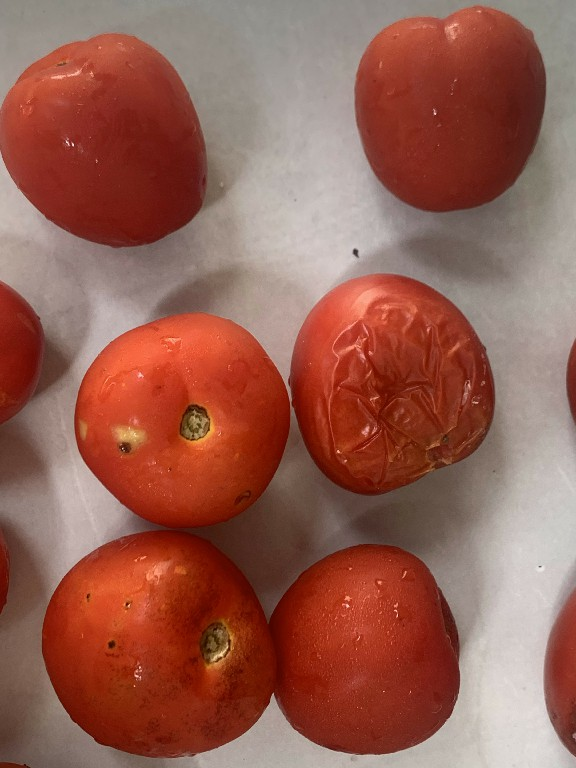NG: (31, 526, 292, 767), (283, 254, 508, 509), (68, 297, 293, 521)
OK: (2, 24, 230, 260), (270, 535, 482, 754), (348, 0, 550, 222)
